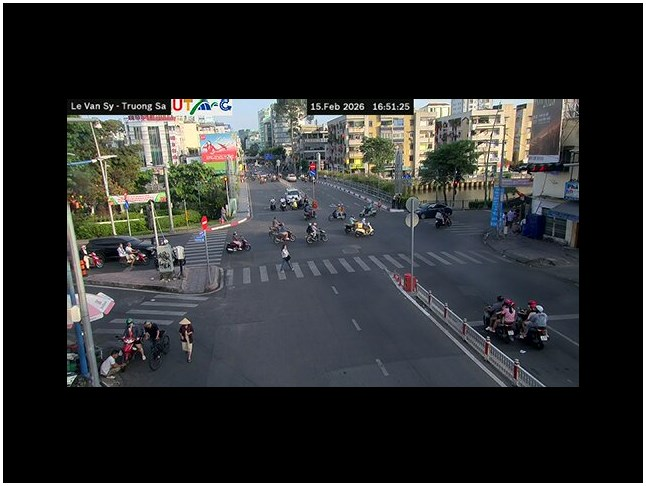motorbike: (305, 222, 324, 245), (352, 220, 374, 237)
